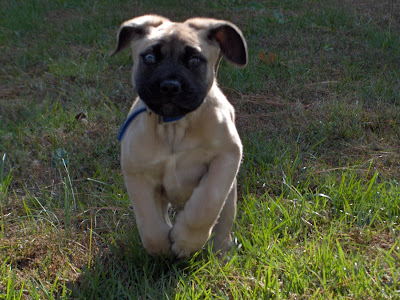mastiff: (107, 12, 249, 261)
